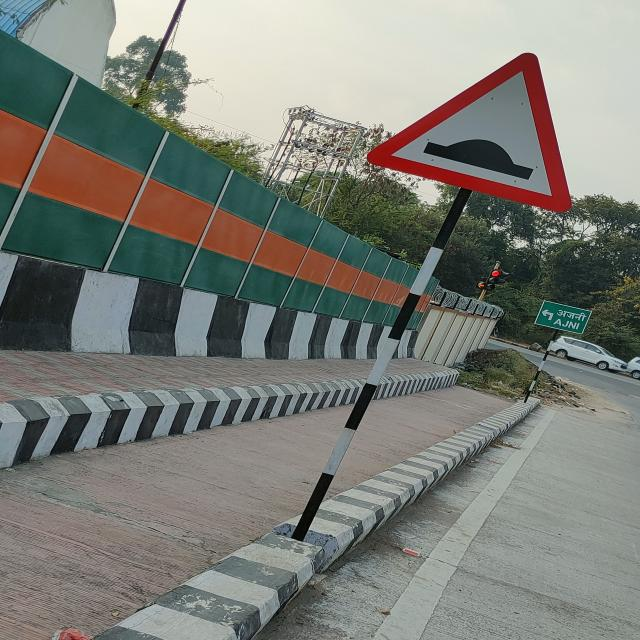horn_prohibited: (366, 54, 570, 212)
